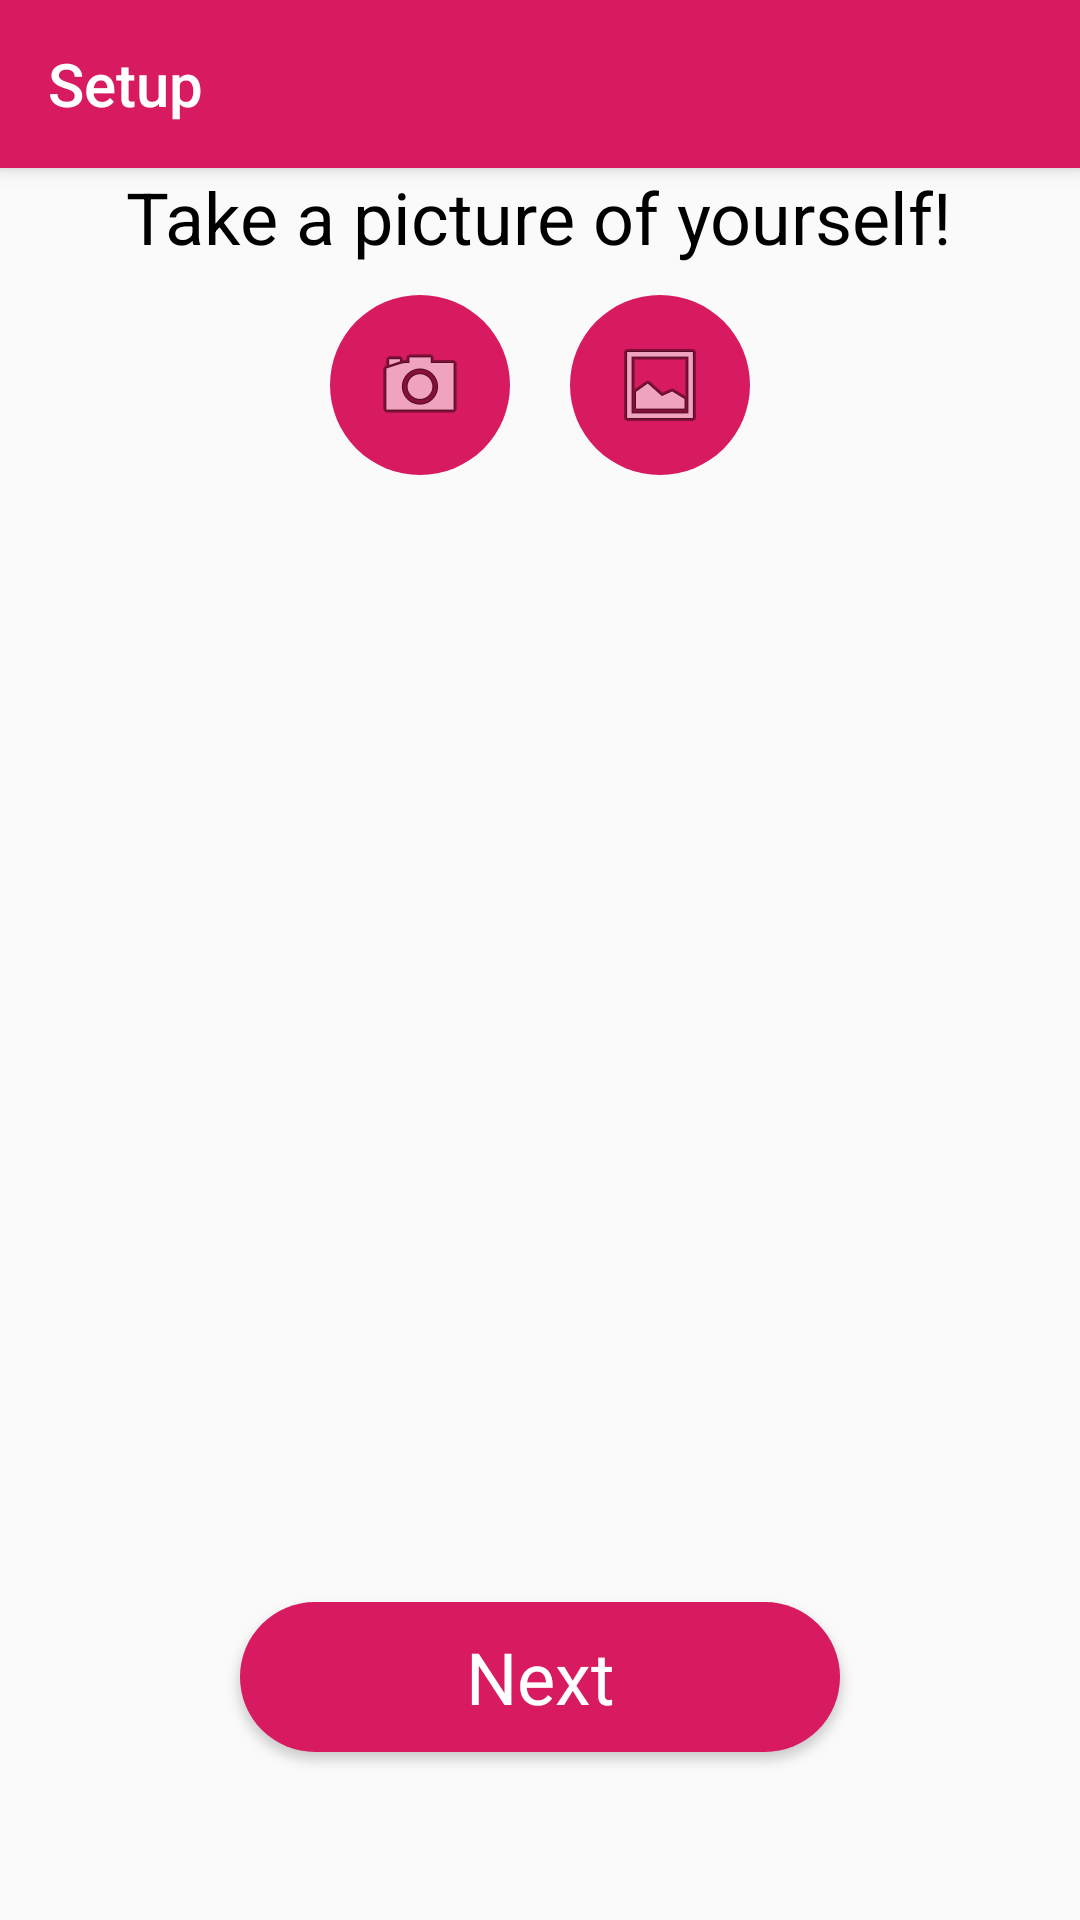

Icons on this 1080x1920 Android screen, each with its box as (x1, y1, x2, y2):
camera: (330, 295, 510, 475)
gallery: (570, 295, 750, 475)
